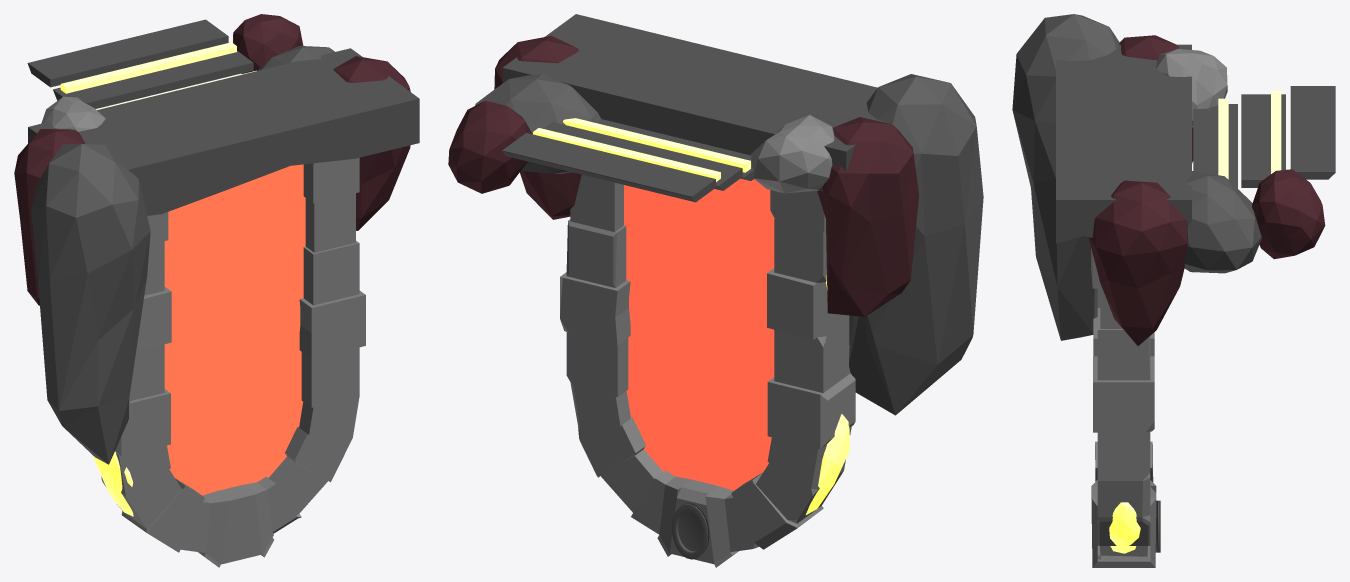
File: Underworld_Portal.fbx
3 renders of one model, left to right at view 1: azimuth 30°, elevation 25°; view 2: azimuth 150°, elevation 25°; view 3: azimuth 270°, elevation 25°, orthographic. The views are drawn at different scales.
Visible parts, largest first — view 1: Cube.005, Cube.001, Cube, Icosphere.005, Cube.004, Cube.003, Icosphere.002, Icosphere.003, Icosphere.001, Cube.006, Icosphere.004, Icosphere.013 (+1 smaller); view 2: Cube.001, Cube.005, Icosphere.005, Cube, Icosphere.003, Cube.004, Icosphere.001, Icosphere.004, Icosphere, Icosphere.002, Cube.003, Cube.007 (+4 smaller); view 3: Cube, Icosphere.005, Cube.001, Icosphere.002, Icosphere, Icosphere.001, Cube.004, Cube.003, Icosphere.004, Cube.002, Icosphere.014, Icosphere.003 (+2 smaller).
Boxes of the visible parts, x1,y1,x2,y2 form: Cube.005: [164, 164, 305, 495]; Cube.001: [101, 157, 365, 567]; Cube: [28, 48, 419, 215]; Icosphere.005: [31, 144, 150, 464]; Cube.004: [27, 19, 228, 87]; Cube.003: [53, 51, 253, 108]; Icosphere.002: [333, 56, 410, 230]; Icosphere.003: [14, 129, 85, 305]; Icosphere.001: [233, 14, 303, 73]; Cube.006: [60, 42, 236, 93]; Icosphere.004: [41, 96, 105, 131]; Icosphere.013: [94, 451, 133, 516]; Cube.001: [560, 174, 855, 567]; Cube.005: [624, 178, 774, 490]; Icosphere.005: [849, 74, 983, 415]; Cube: [502, 14, 886, 191]; Icosphere.003: [817, 117, 919, 316]; Cube.004: [502, 133, 715, 202]; Icosphere.001: [448, 100, 532, 193]; Icosphere.004: [750, 115, 834, 193]; Icosphere: [475, 73, 600, 173]; Icosphere.002: [494, 36, 581, 219]; Cube.003: [544, 122, 742, 190]; Cube.007: [563, 118, 750, 172]; Cube: [1056, 44, 1191, 243]; Icosphere.005: [1012, 14, 1119, 340]; Cube.001: [1091, 248, 1156, 567]; Icosphere.002: [1088, 180, 1187, 345]; Icosphere: [1184, 171, 1261, 273]; Icosphere.001: [1252, 169, 1325, 259]; Cube.004: [1290, 86, 1335, 179]; Cube.003: [1241, 94, 1285, 187]; Icosphere.004: [1156, 49, 1227, 127]; Cube.002: [1193, 104, 1237, 188]; Icosphere.014: [1109, 502, 1140, 553]; Icosphere.003: [1119, 35, 1193, 162].
Bounding box in the file's own units: 832 × 917 × 582.
